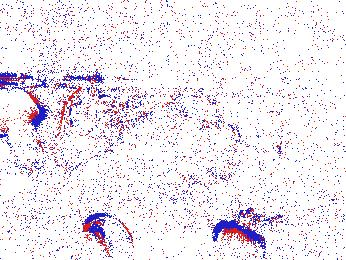flame jellyfish: (1, 84, 45, 177), (213, 205, 284, 260), (77, 211, 135, 260)
